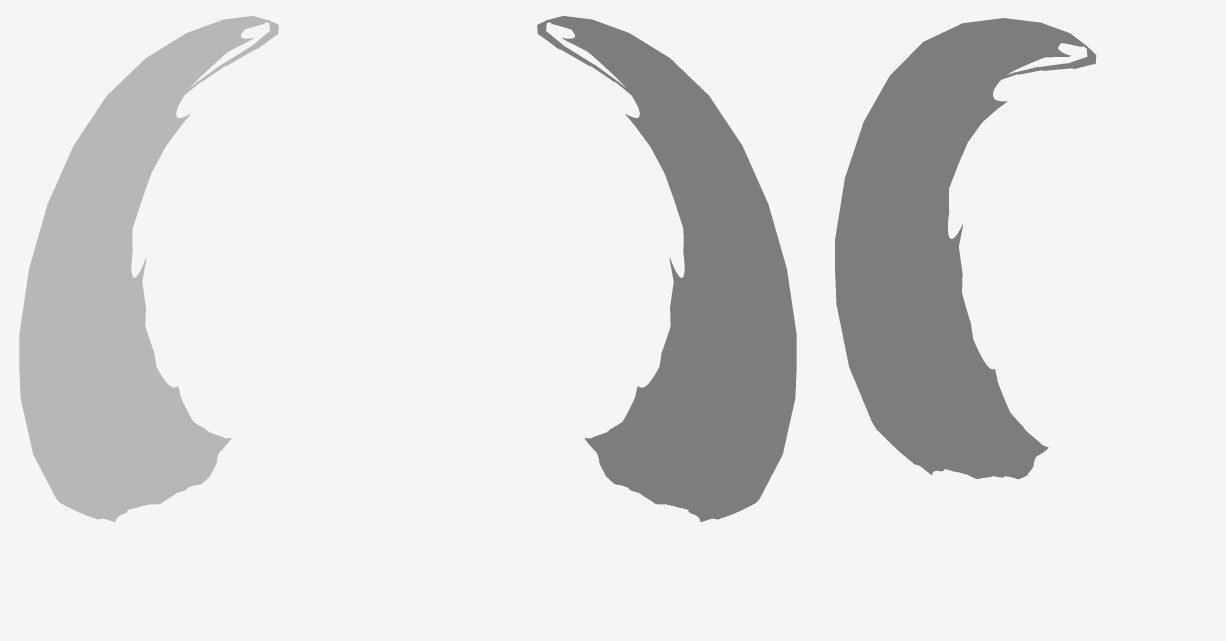
Rendered from daoguang_01.FBX.
3 renders of one model, left to right at view 1: azimuth 30°, elevation 25°; view 2: azimuth 150°, elevation 25°; view 3: azimuth 330°, elevation 25°, orthographic.
Visible parts, largest first — view 1: Line001; view 2: Line001; view 3: Line001.
Part boxes in pixels (<box>): Line001: <box>19,16,278,521</box>; Line001: <box>537,16,796,521</box>; Line001: <box>835,18,1096,479</box>.
Size of the model in its own units: 13.79 by 21.08 by 3.62e-06.
Materials: 1 (1 with a texture image).
